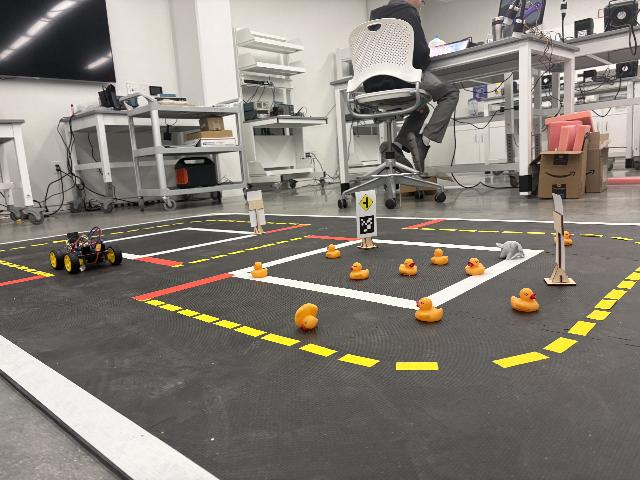duck: (509, 286, 542, 314), (413, 296, 445, 323), (293, 300, 319, 332), (463, 257, 488, 276), (348, 261, 370, 281), (428, 248, 450, 266), (399, 257, 418, 277), (323, 243, 343, 261), (552, 230, 573, 247), (250, 261, 268, 279)
l_intersection: (359, 194, 373, 210)
mouse: (495, 239, 525, 260)
redline: (132, 274, 233, 303), (0, 274, 46, 288), (135, 254, 184, 267), (304, 233, 358, 241), (266, 224, 307, 234), (404, 220, 445, 228)
whiteline: (0, 334, 223, 479), (225, 272, 421, 313), (420, 251, 542, 313), (3, 212, 222, 245), (220, 212, 640, 226), (227, 237, 363, 275), (133, 235, 254, 262), (366, 236, 543, 252), (101, 226, 187, 244), (188, 225, 254, 235), (120, 252, 139, 260)
yellowline: (140, 298, 381, 367), (0, 221, 202, 253), (569, 262, 640, 336), (185, 237, 308, 267), (492, 338, 579, 371), (405, 228, 553, 236), (0, 260, 56, 278), (581, 233, 640, 249), (205, 218, 301, 225), (395, 361, 439, 372)
